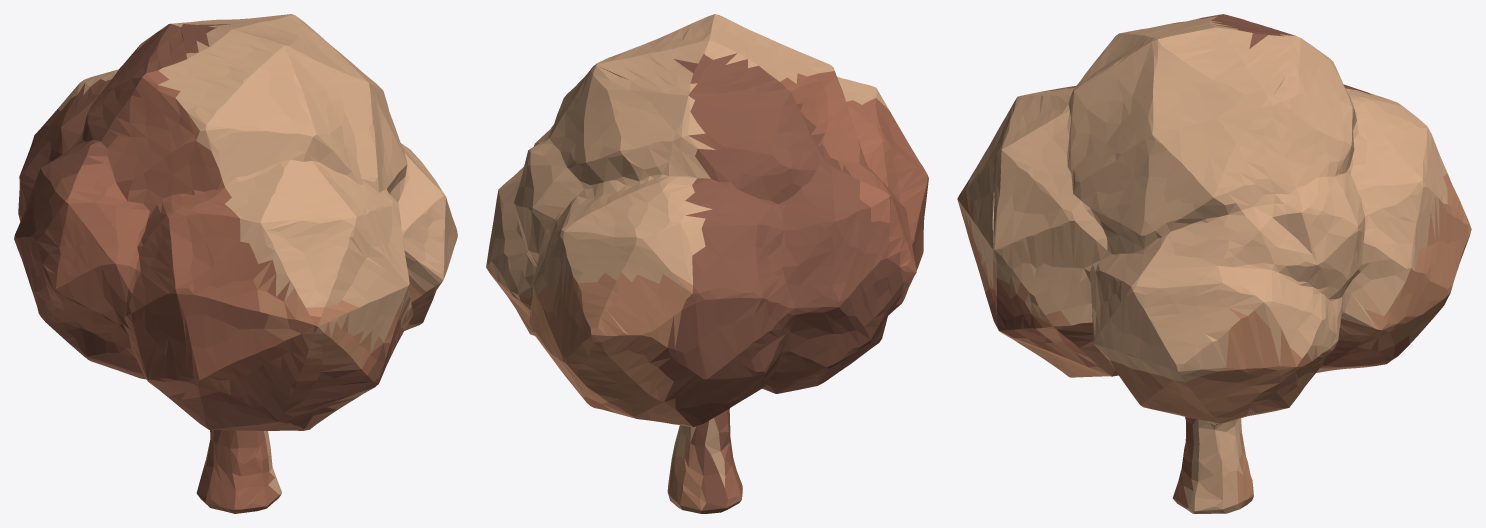
Rendered from tree_peach.glb.
The picture shows the model from 3 angles, left to right: view 1: azimuth 30°, elevation 25°; view 2: azimuth 150°, elevation 25°; view 3: azimuth 270°, elevation 25°; orthographic projection. The views are drawn at different scales.
Visible parts, largest first — view 1: geometry_0; view 2: geometry_0; view 3: geometry_0.
Boxes of the visible parts, x1,y1,x2,y2 form: geometry_0: (14, 14, 457, 513); geometry_0: (486, 14, 928, 513); geometry_0: (957, 14, 1471, 513).
Size of the model in its own units: 1.78 by 1.99 by 1.97.
